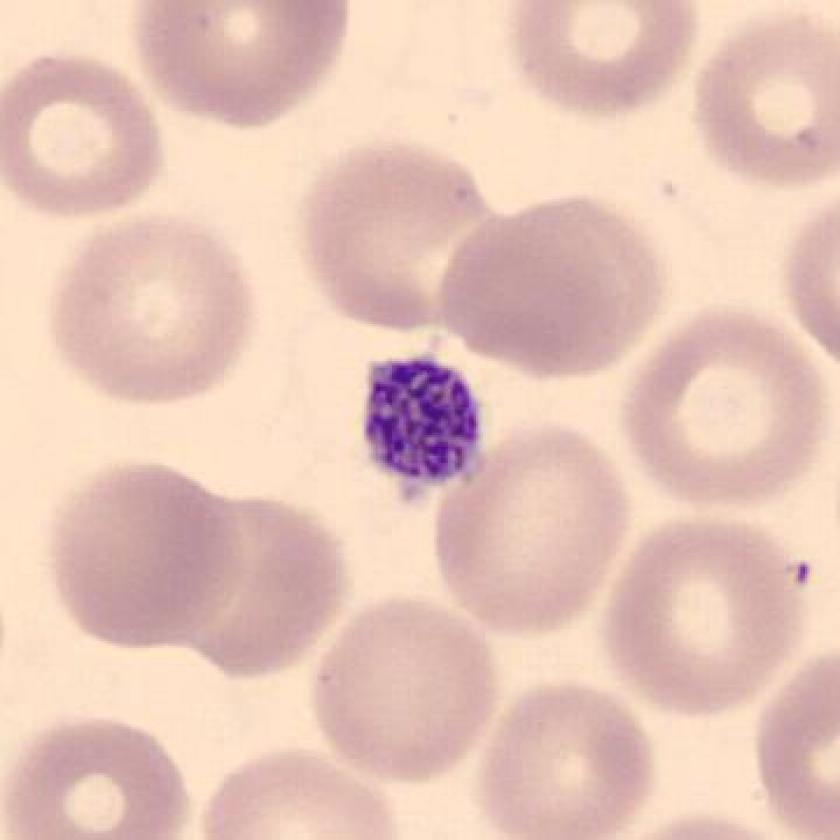platelets: (344, 348, 500, 508)
